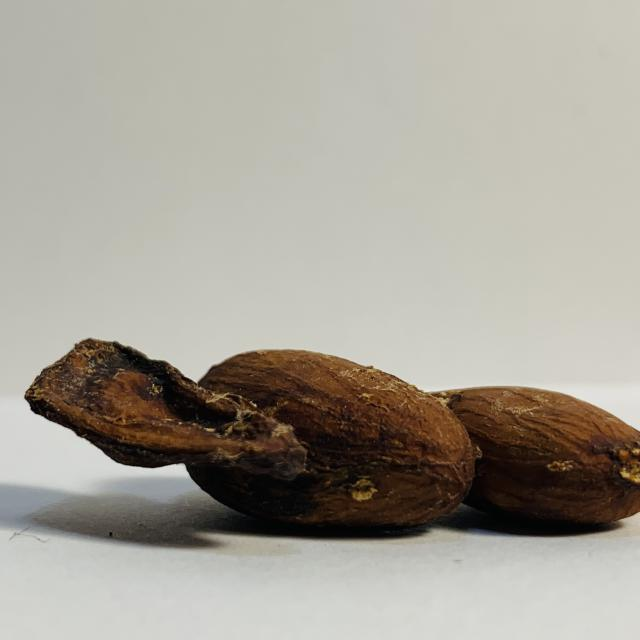Agglomerated_cocoabeans: (0, 316, 640, 574)
